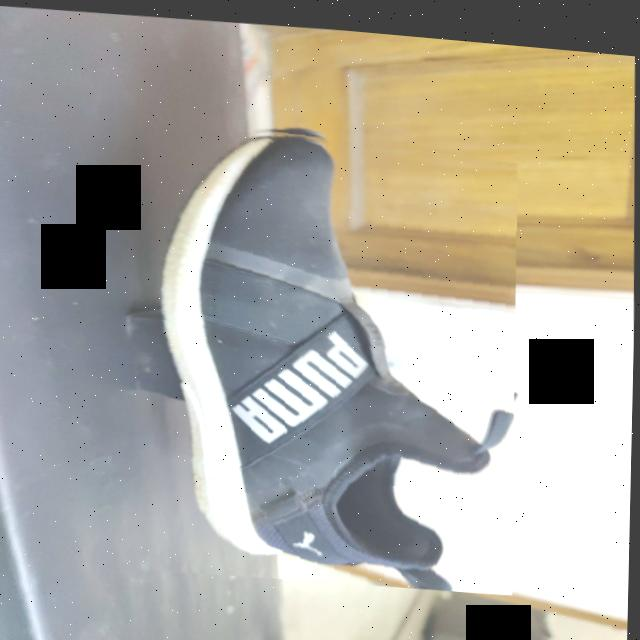shoe: (153, 107, 525, 591)
